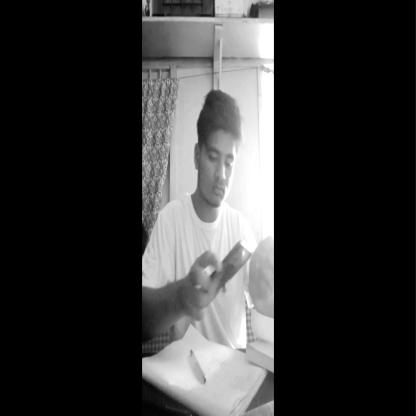Distracted: (197, 97, 241, 207)
